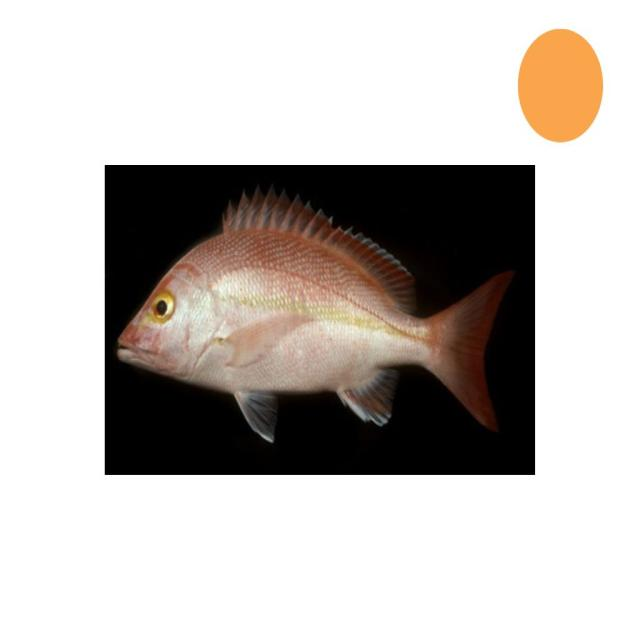ikan: (115, 182, 515, 444)
